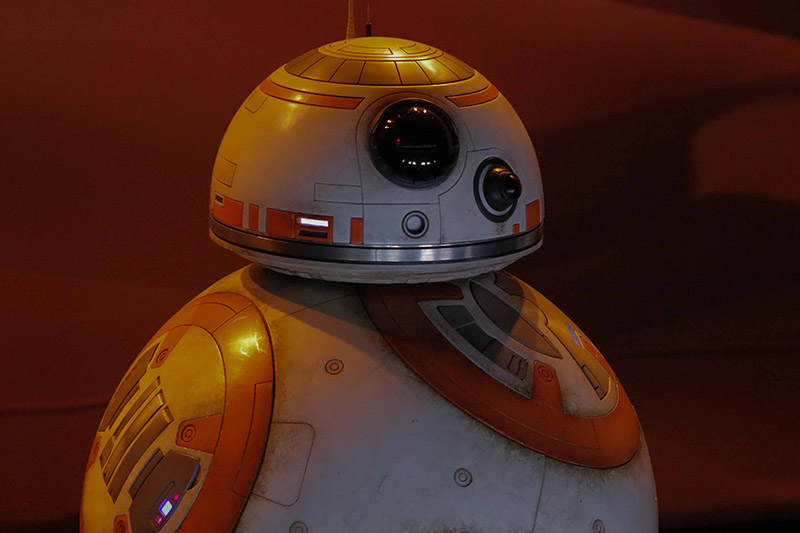bb8: (79, 35, 660, 533)
